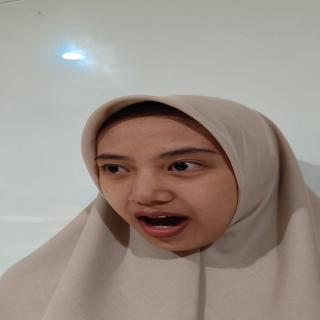Takut: (91, 103, 266, 258)
